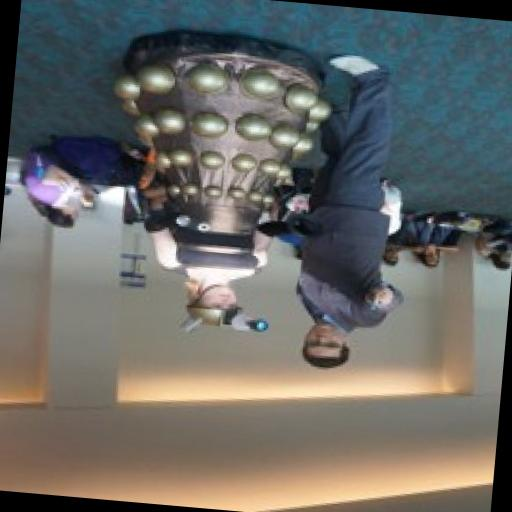dalek: (110, 31, 343, 214)
